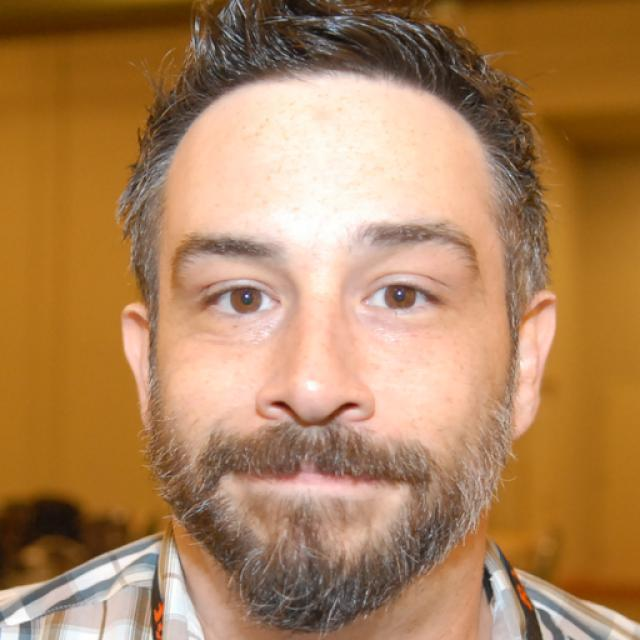content: (152, 80, 514, 608)
